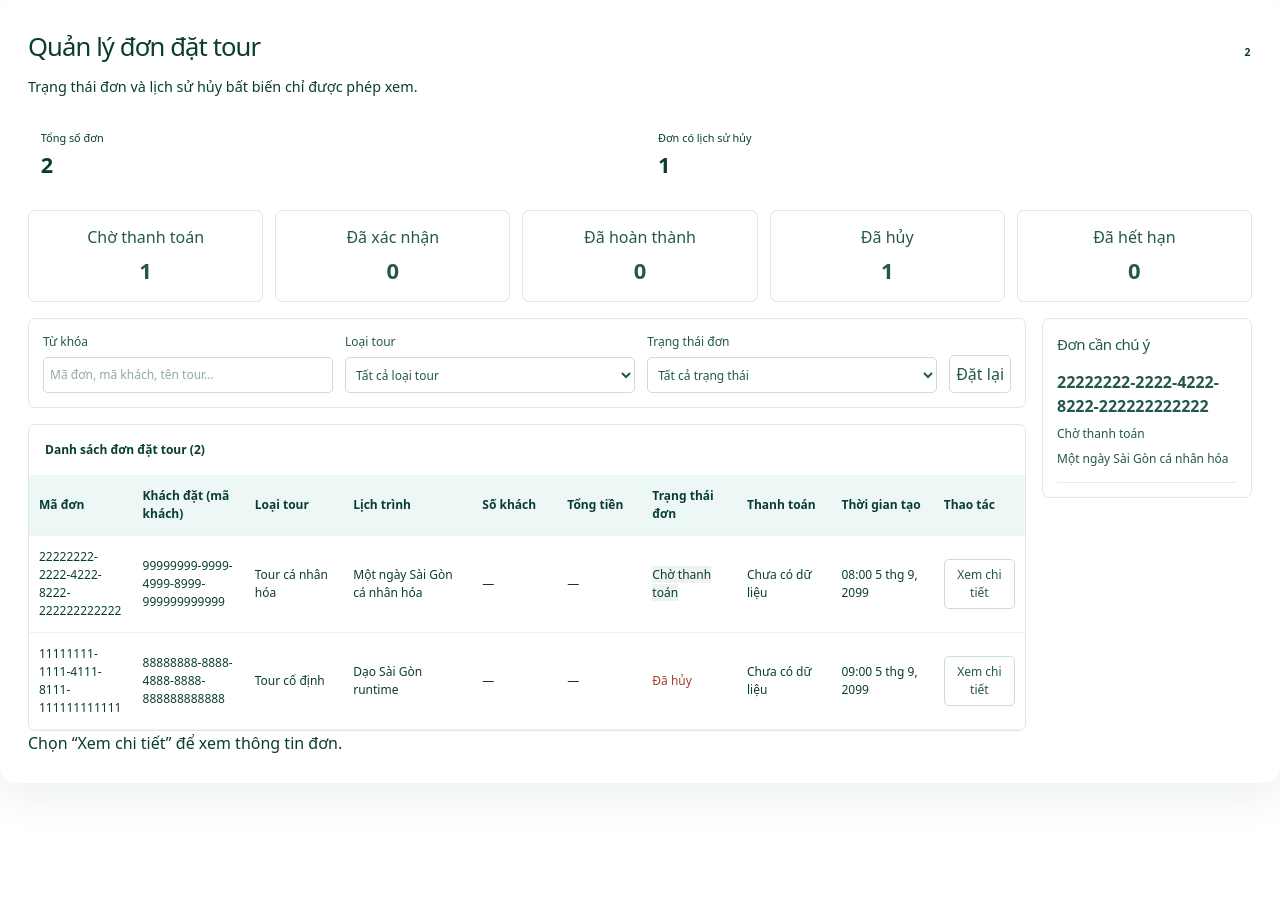
Scenario: runtime booking management › renders every booking and nullable cancellation history without decision controls in vi
The width and height of the screenshot is (1280, 900).
Click the button "Xem chi tiết" in the row of "99999999-9999-4999-8999-999999999999".
click(979, 584)  # box [944,559,1015,609]
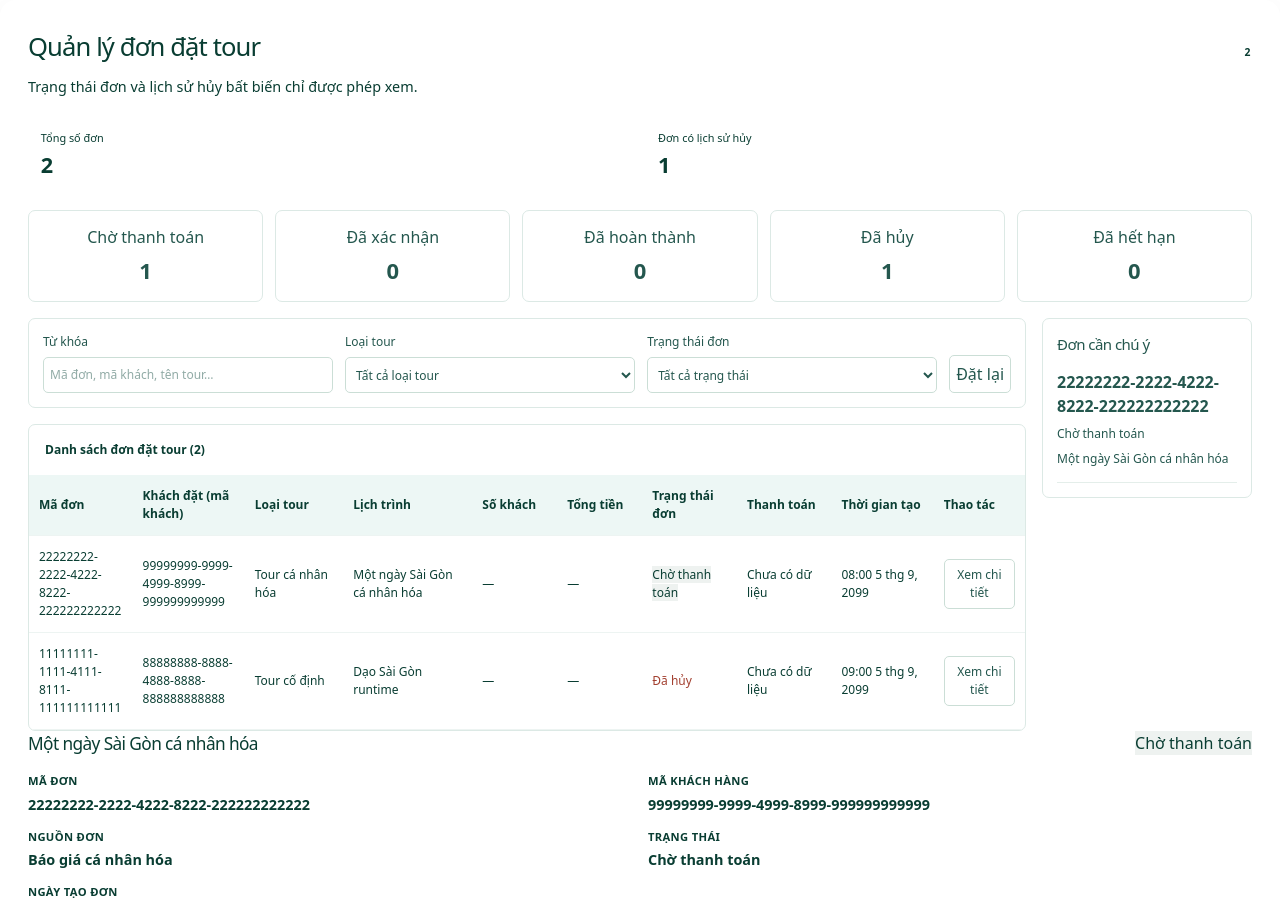
Check: the element "Một ngày Sài Gòn cá nhân hóa" shows "22222222-2222-4222-8222-222222222222", box [28,795,310,814]
Check: the element "Một ngày Sài Gòn cá nhân hóa" shows "Chờ thanh toán", box [1135,732,1252,754]
Click the button "Xem chi tiết" in the row of "11111111-1111-4111-8111-111111111111".
click(979, 681)  # box [944,656,1015,706]
(page scrolled)
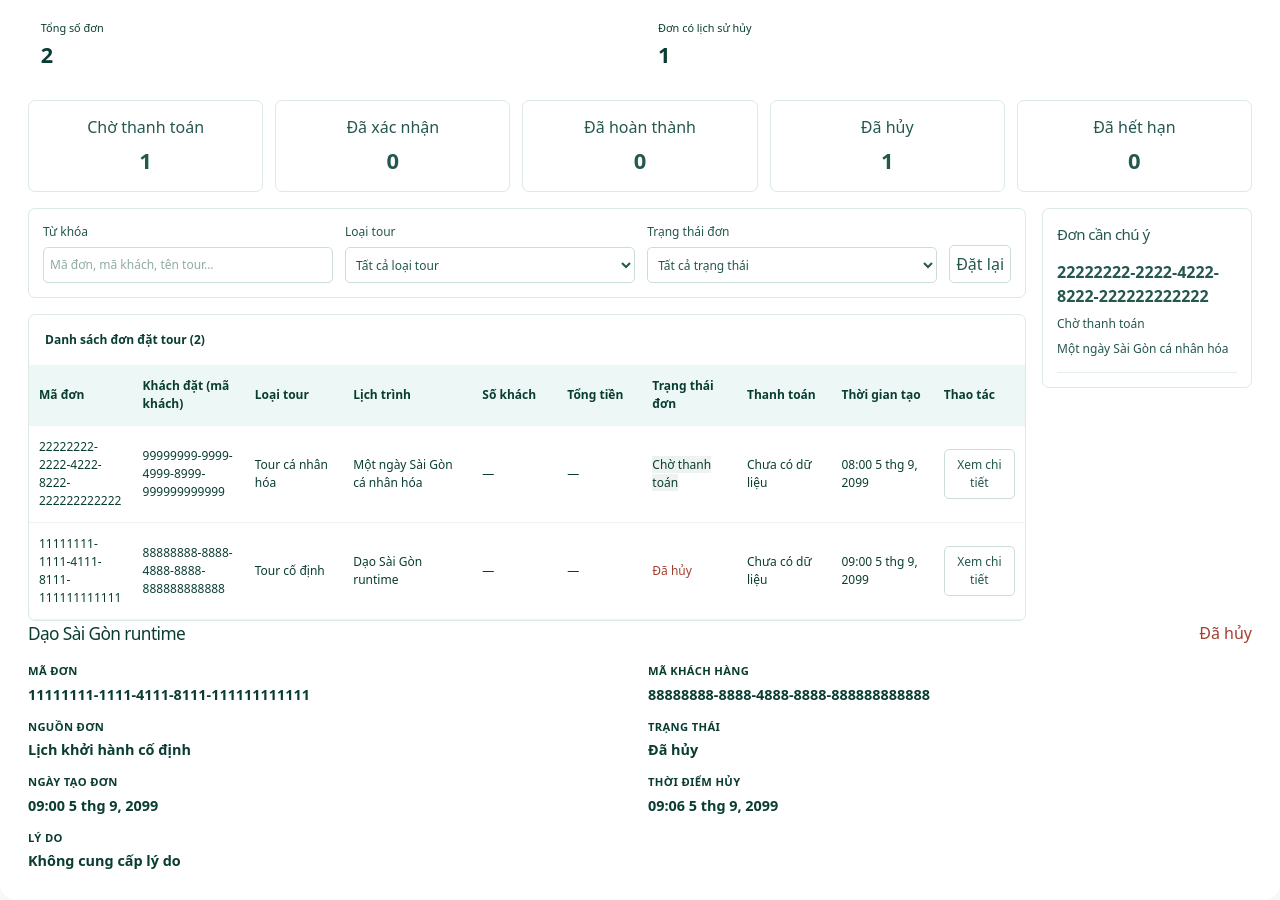
Check: the element "Dạo Sài Gòn runtime" shows "Đã hủy", box [1199,622,1252,644]
Check: the element "Dạo Sài Gòn runtime" shows "Không cung cấp lý do", box [28,851,181,870]
Check: the element "Dạo Sài Gòn runtime" shows "Lịch khởi hành cố định", box [28,740,191,759]
